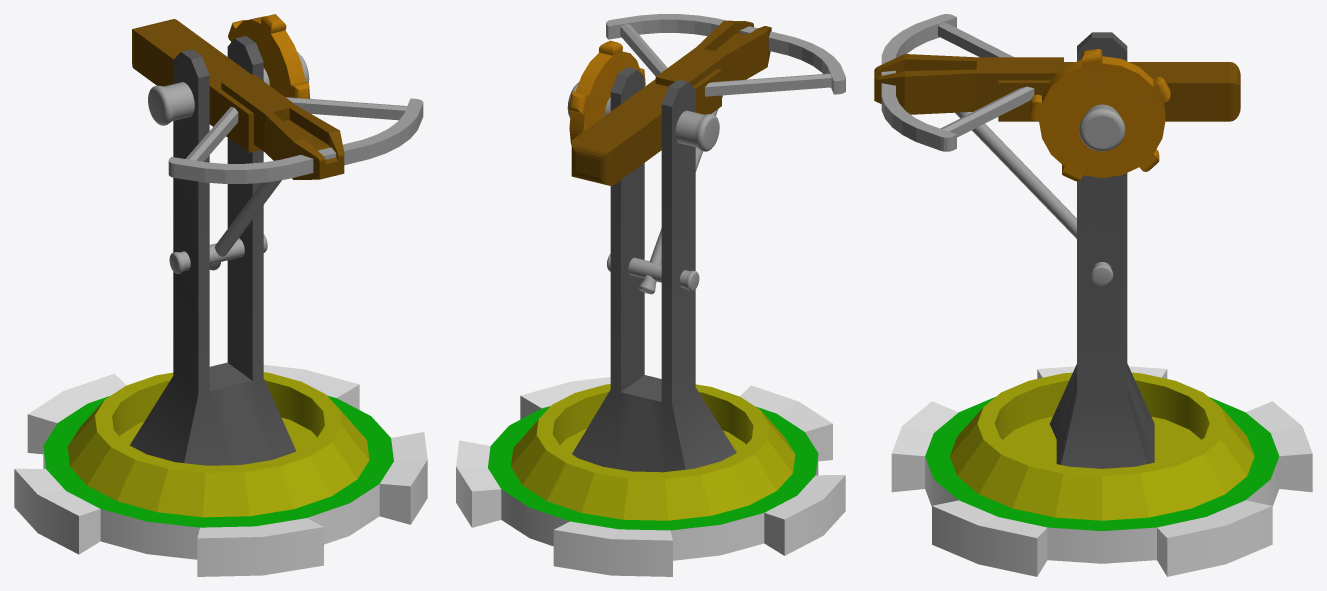
File: machine6.fbx
The picture shows the model from 3 angles, left to right: view 1: azimuth 30°, elevation 25°; view 2: azimuth 150°, elevation 25°; view 3: azimuth 270°, elevation 25°; orthographic projection. The views are drawn at different scales.
Parts seen in each view (by area): view 1: machine6body, machine6body1, machine6bow, machine6body3, machine6body2, machine6pin, machine6pin1, machine6pin2; view 2: machine6body, machine6body1, machine6body2, machine6bow, machine6pin, machine6body3, machine6pin2, machine6pin1; view 3: machine6body, machine6body1, machine6pin, machine6body3, machine6bow, machine6body2, machine6pin1.
Boxes of the visible parts, box(x1,y1,x2,y2) form: machine6body: box(14, 365, 427, 576); machine6body1: box(129, 36, 296, 465); machine6bow: box(168, 97, 423, 183); machine6body3: box(221, 74, 344, 179); machine6body2: box(132, 19, 260, 152); machine6pin: box(148, 14, 310, 125); machine6pin1: box(209, 180, 281, 270); machine6pin2: box(169, 234, 267, 273); machine6body: box(456, 377, 845, 576); machine6body1: box(572, 67, 736, 472); machine6body2: box(571, 68, 721, 185); machine6bow: box(606, 14, 845, 96); machine6pin: box(567, 40, 719, 151); machine6body3: box(655, 20, 771, 86); machine6pin2: box(607, 254, 699, 291); machine6pin1: box(639, 95, 722, 294); machine6body: box(891, 366, 1312, 576); machine6body1: box(1050, 32, 1154, 468); machine6pin: box(1029, 49, 1170, 181); machine6body3: box(874, 54, 1063, 114); machine6bow: box(881, 14, 1034, 151); machine6body2: box(998, 62, 1240, 121); machine6pin1: box(955, 112, 1076, 238).
Bounding box in the file's own units: 103 × 129 × 110.
